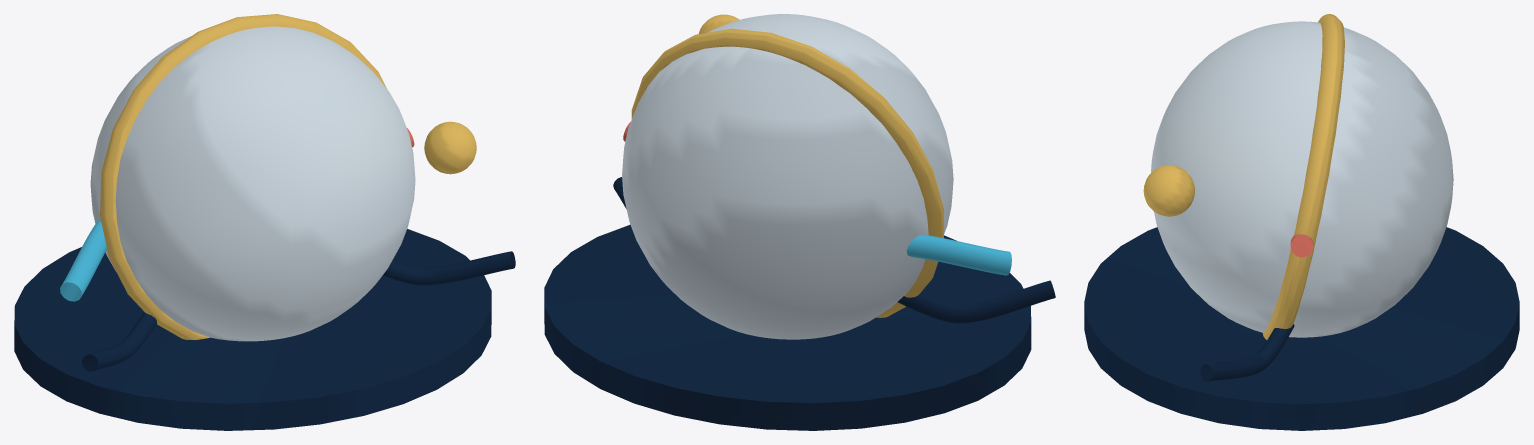
File: 0438_微生物图鉴_沼气发酵罐.glb
The picture shows the model from 3 angles, left to right: view 1: azimuth 30°, elevation 25°; view 2: azimuth 150°, elevation 25°; view 3: azimuth 270°, elevation 25°; orthographic projection. The views are drawn at different scales.
Visible parts, largest first — view 1: card_0438; view 2: card_0438; view 3: card_0438.
Part boxes in pixels (x1=…): card_0438: x1=14, y1=14, x2=515, y2=430; card_0438: x1=544, y1=14, x2=1055, y2=430; card_0438: x1=1084, y1=14, x2=1519, y2=430.
Size of the model in its own units: 1.49 by 1 by 1.32.
